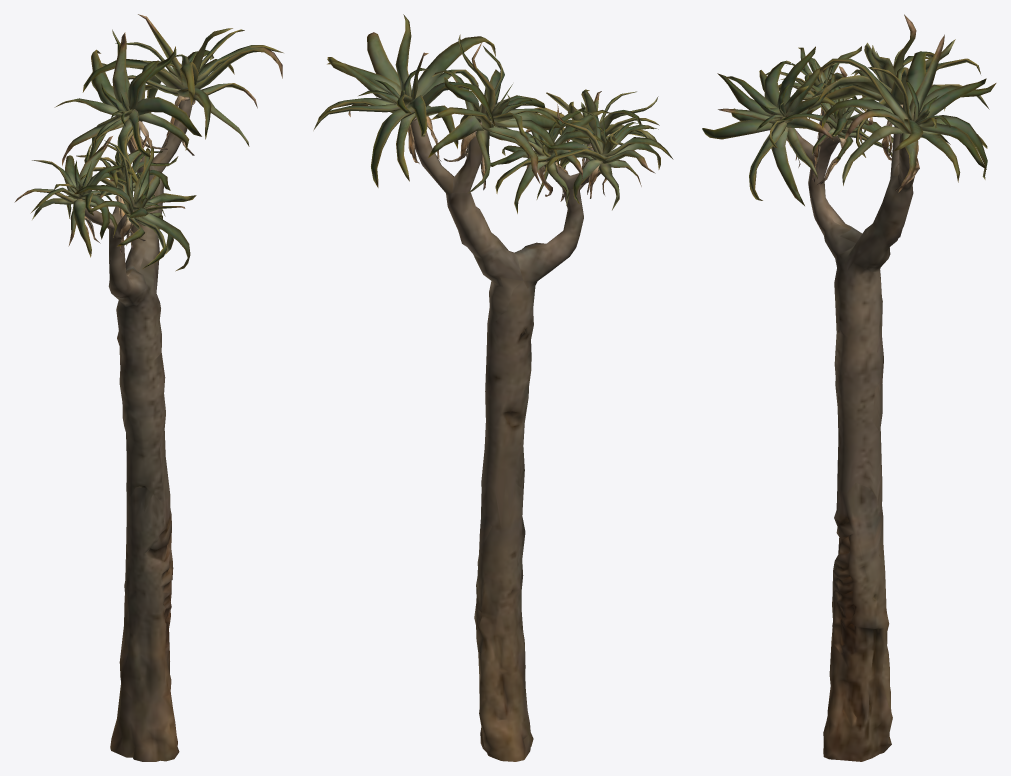
Rendered from ph_quiver_1.glb.
The picture shows the model from 3 angles, left to right: view 1: azimuth 30°, elevation 25°; view 2: azimuth 150°, elevation 25°; view 3: azimuth 270°, elevation 25°; orthographic projection. The views are drawn at different scales.
Parts seen in each view (by area): view 1: ph_quiver_1_lod1; view 2: ph_quiver_1_lod1; view 3: ph_quiver_1_lod1.
Part boxes in pixels (left/top/right/bottom): ph_quiver_1_lod1: left=14, top=14, right=283, bottom=761; ph_quiver_1_lod1: left=313, top=14, right=673, bottom=761; ph_quiver_1_lod1: left=702, top=14, right=996, bottom=761.
Bounding box in the file's own units: 1.18 × 2.67 × 0.9689.
2 materials, 2 textured.
